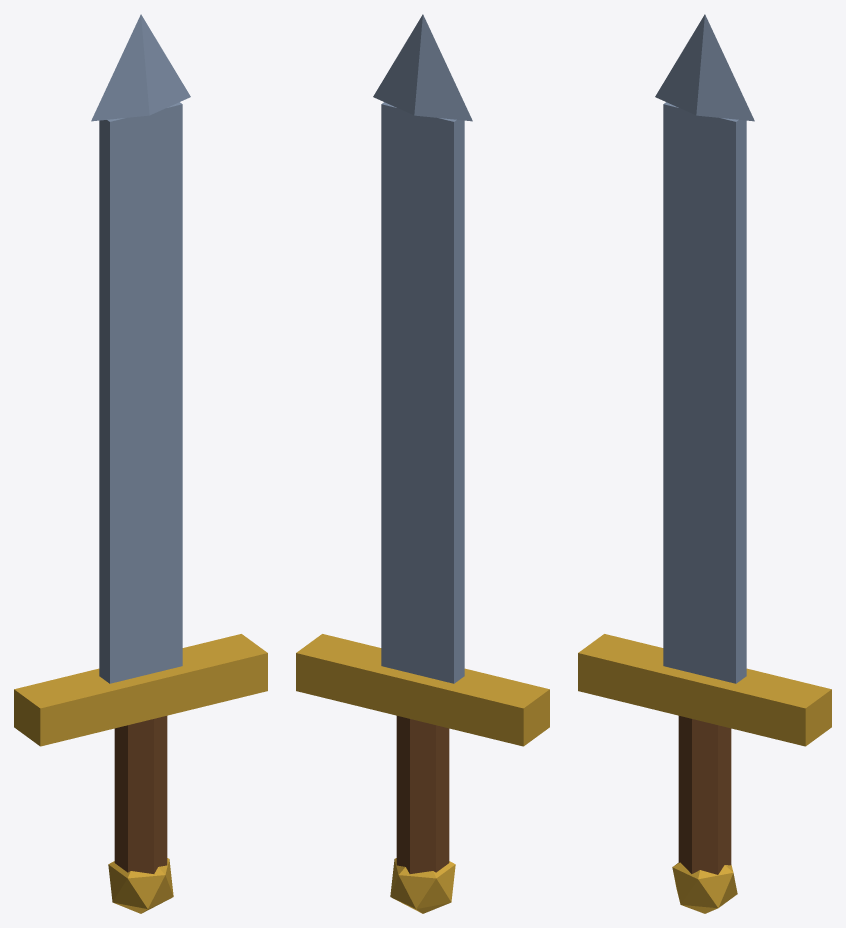
Rendered from SM_GZ_item_steel_sword.fbx.
3 views of the same model, side by side, from view 1: azimuth 30°, elevation 25°; view 2: azimuth 150°, elevation 25°; view 3: azimuth 330°, elevation 25° (orthographic).
Parts seen in each view (by area): view 1: SM_GZ_item_steel_sword; view 2: SM_GZ_item_steel_sword; view 3: SM_GZ_item_steel_sword.
Part boxes in pixels (box(x1,y1,x2,y2)): SM_GZ_item_steel_sword: box(14, 14, 267, 913); SM_GZ_item_steel_sword: box(296, 14, 549, 913); SM_GZ_item_steel_sword: box(578, 14, 831, 913).
Size of the model in its own units: 50 by 189 by 11.91.
